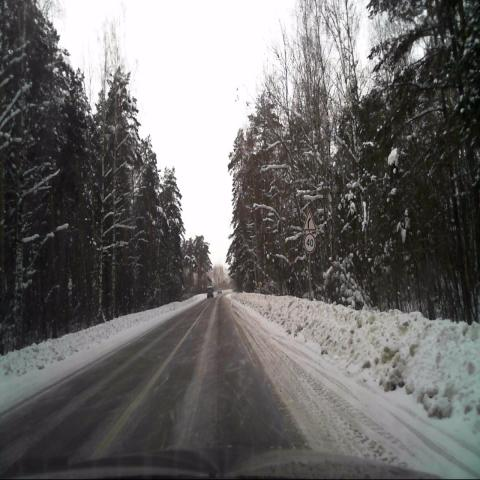1_11: (303, 210, 316, 231)
3_24: (304, 232, 316, 254)
